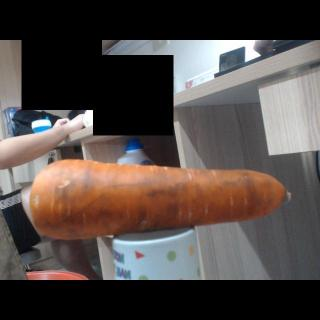carrot: (28, 158, 290, 242)
